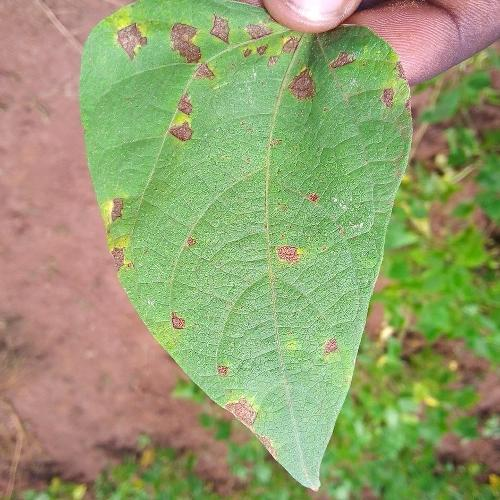hawar: (214, 384, 284, 468), (104, 17, 194, 69), (96, 184, 133, 296), (198, 10, 267, 64), (154, 82, 206, 149), (253, 228, 314, 285), (153, 292, 199, 344), (280, 54, 321, 110), (308, 327, 348, 364), (326, 41, 362, 73), (379, 74, 397, 108)
